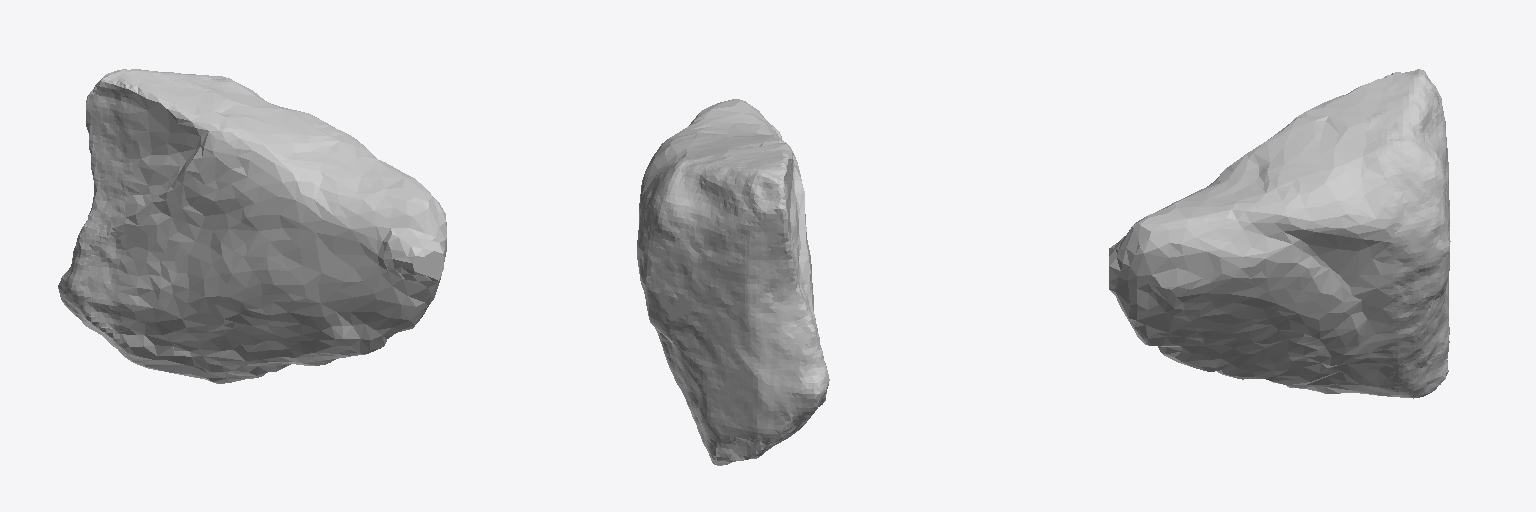
3 views of the same model, side by side, from view 1: azimuth 30°, elevation 25°; view 2: azimuth 150°, elevation 25°; view 3: azimuth 270°, elevation 25° (orthographic).
Parts seen in each view (by area): view 1: FinalOrientedMesh_Spec1.obj; view 2: FinalOrientedMesh_Spec1.obj; view 3: FinalOrientedMesh_Spec1.obj.
Boxes of the visible parts, box(x1,y1,x2,y2) form: FinalOrientedMesh_Spec1.obj: box(58, 69, 446, 383); FinalOrientedMesh_Spec1.obj: box(637, 99, 829, 465); FinalOrientedMesh_Spec1.obj: box(1109, 69, 1450, 398).
Bounding box in the file's own units: 66.98 × 76.79 × 79.02.